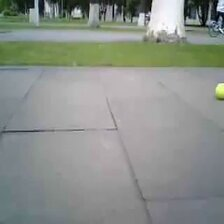tennis: (215, 83, 224, 99)
